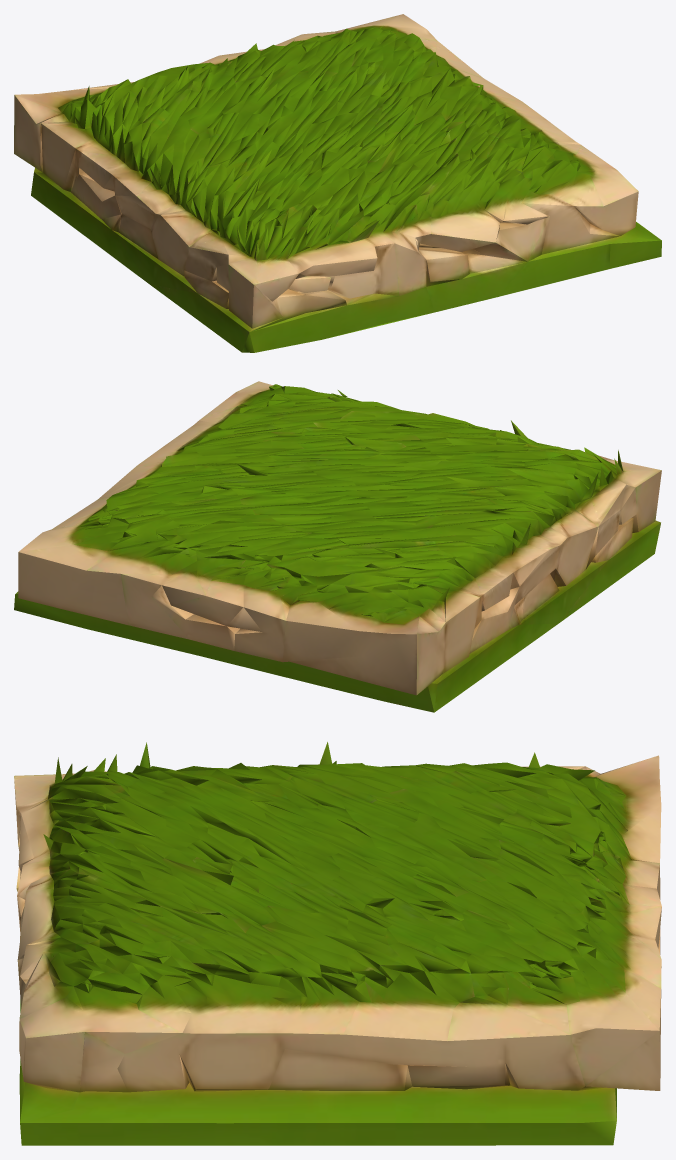
Rendered from islandA.glb.
3 views of the same model, one above another, from view 1: azimuth 30°, elevation 25°; view 2: azimuth 150°, elevation 25°; view 3: azimuth 270°, elevation 25° (orthographic). The views are drawn at different scales.
Parts seen in each view (by area): view 1: model; view 2: model; view 3: model.
Boxes of the visible parts, x1=… form: model: x1=14, y1=14, x2=661, y2=352; model: x1=14, y1=381, x2=661, y2=712; model: x1=14, y1=742, x2=661, y2=1145.
Size of the model in its own units: 1.89 by 0.5103 by 1.9.
1 material, 1 textured.
